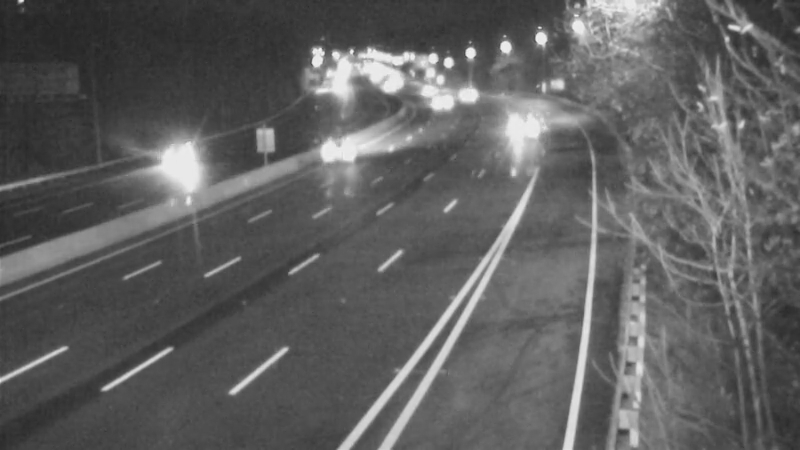vehicle: (143, 120, 223, 200), (398, 63, 448, 113), (439, 70, 489, 120), (415, 76, 465, 126), (497, 102, 547, 152), (319, 124, 369, 174)
